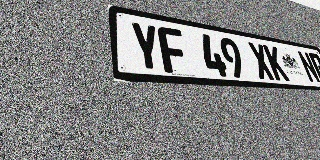4: (198, 33, 229, 77)
9: (218, 37, 248, 78)
F: (157, 26, 190, 74)
K: (263, 44, 290, 81)
N: (296, 50, 320, 83)
R: (308, 52, 320, 84)
X: (247, 42, 275, 80)
Y: (129, 21, 164, 72)
